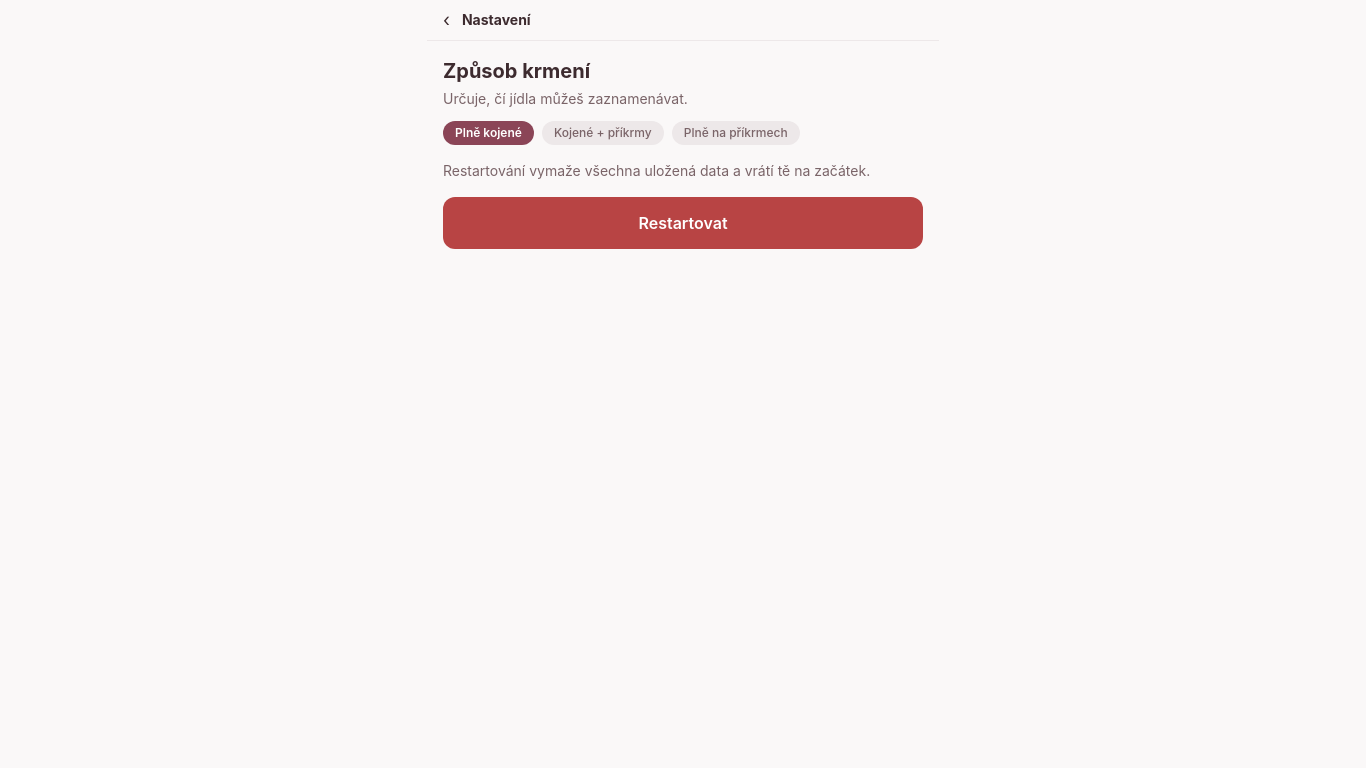
Test case: settings/+page.svelte › does not wipe anything until the confirm sheet is accepted
expect the text "Opravdu restartovat?" is not shown: met
Step 1. Click the button "Restartovat" → [683, 223], box [443,197,923,249]
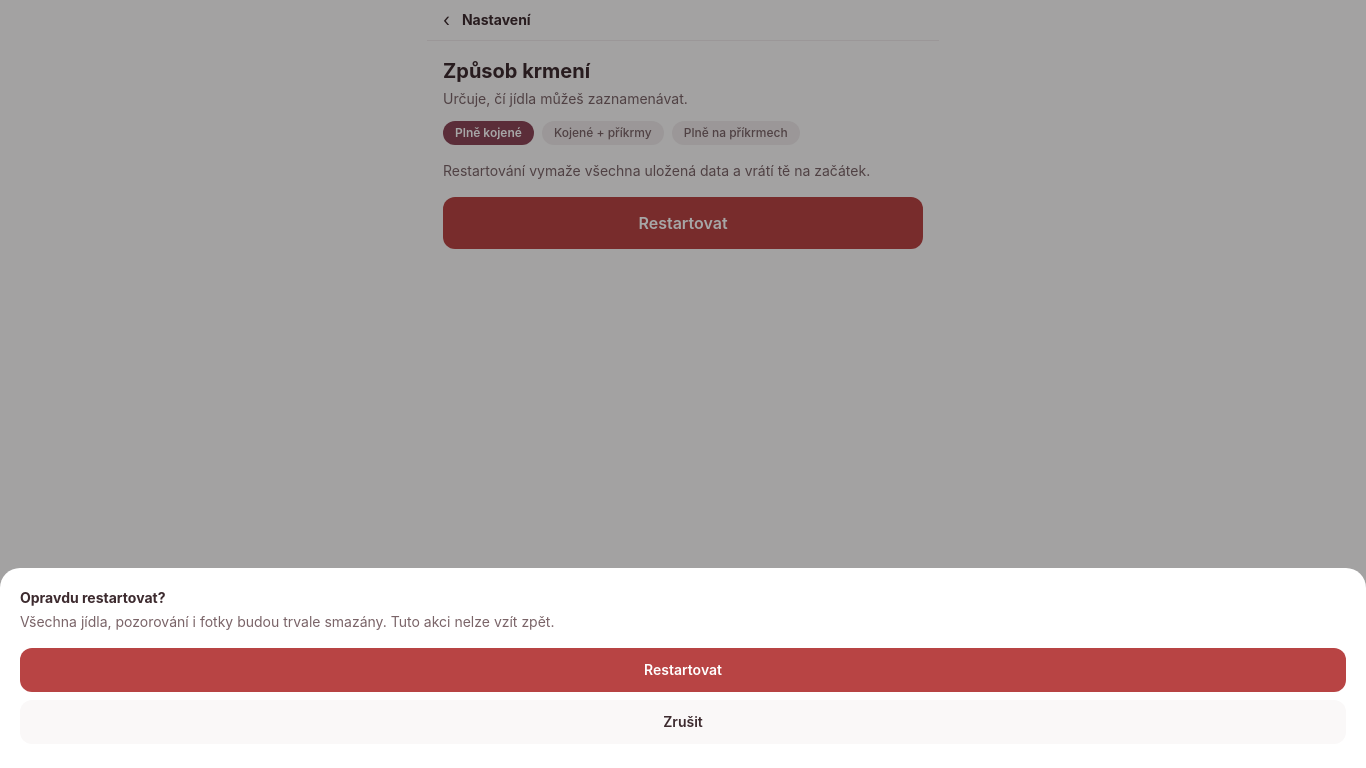
expect the text "Opravdu restartovat?" is shown: met, box [20,589,166,606]
expect the text "Všechna jídla, pozorování i fotky" is shown: met, box [20,613,554,630]
